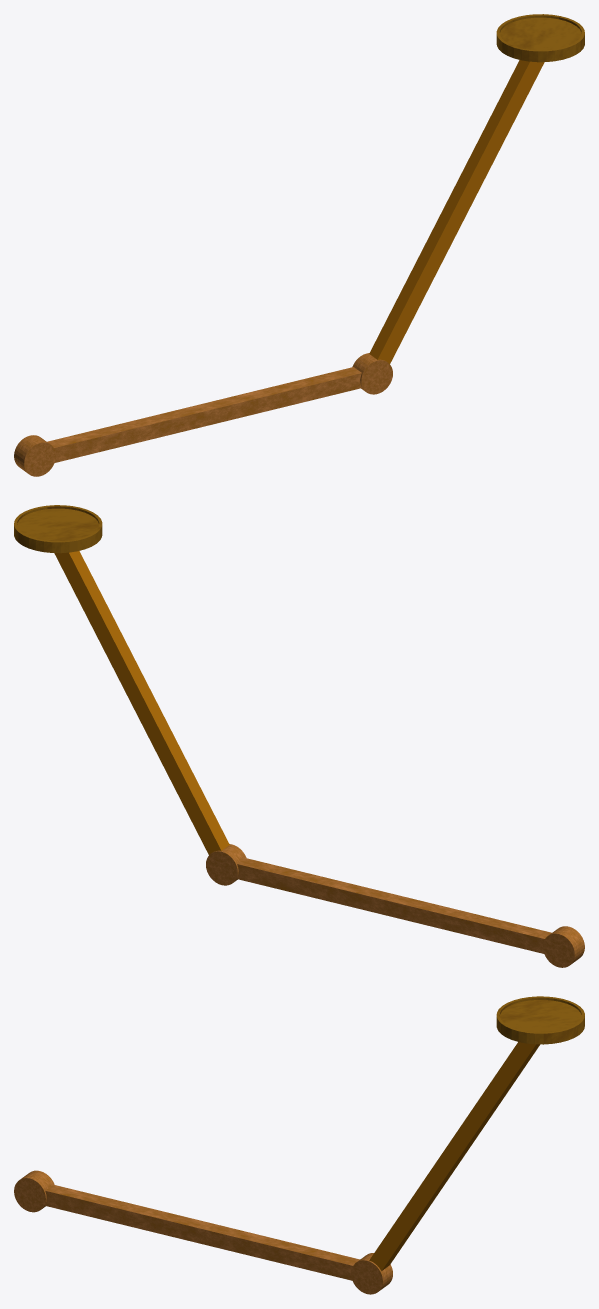
File: Final_Back of main screen arms.glb
3 views of the same model, one above another, from view 1: azimuth 30°, elevation 25°; view 2: azimuth 150°, elevation 25°; view 3: azimuth 330°, elevation 25° (orthographic).
Parts seen in each view (by area): view 1: Cube.001, Cube, Circle, Cylinder.001, Cylinder; view 2: Cube.001, Cube, Circle, Cylinder.001, Cylinder; view 3: Cube, Cube.001, Circle, Cylinder.001, Cylinder.
Part boxes in pixels (box(x1,y1,x2,y2)): Cube.001: box(369, 60, 544, 363); Cube: box(47, 367, 361, 462); Circle: box(496, 14, 584, 62); Cylinder.001: box(14, 435, 55, 476); Cylinder: box(352, 353, 392, 394); Cube.001: box(54, 551, 229, 854); Cube: box(237, 858, 551, 953); Circle: box(14, 505, 102, 553); Cylinder.001: box(543, 926, 584, 967); Cylinder: box(206, 844, 246, 885); Cube: box(45, 1184, 359, 1280); Cube.001: box(369, 1042, 540, 1270); Circle: box(496, 996, 584, 1044); Cylinder.001: box(14, 1170, 54, 1212); Cylinder: box(351, 1253, 392, 1294).
Bounding box in the file's own units: 401 × 217 × 54.91.
5 materials, 5 textured.
